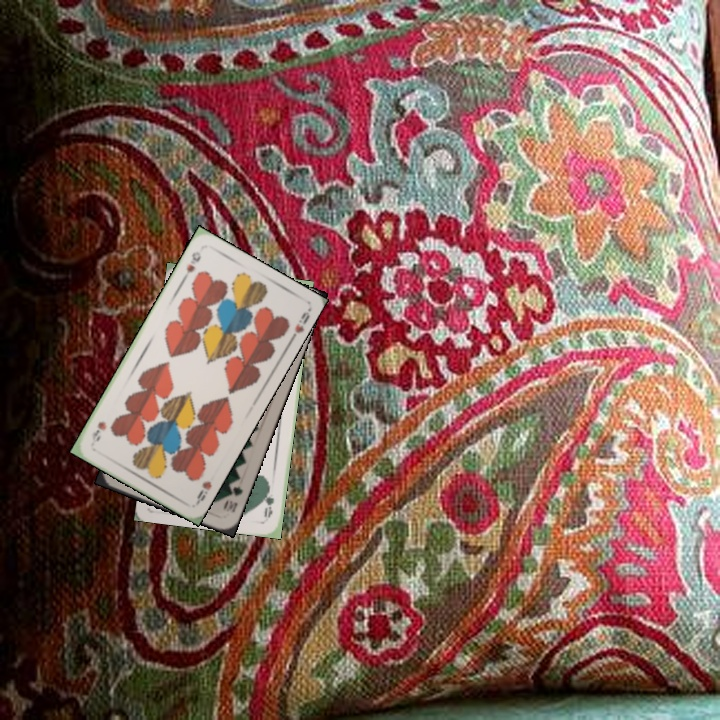G10: (219, 476, 245, 515)
GO: (260, 480, 277, 520)
H9: (179, 247, 204, 282), (192, 477, 214, 506)
